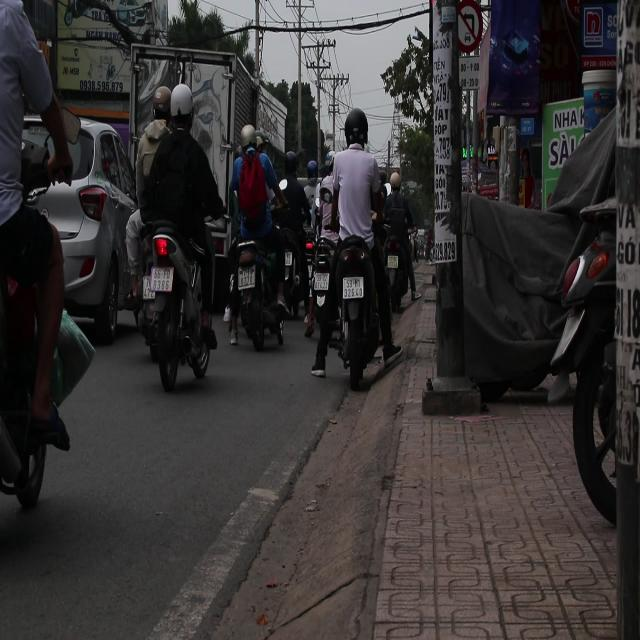car: (31, 119, 139, 342)
motorbike: (307, 218, 390, 391), (132, 217, 213, 387), (229, 218, 291, 354)
